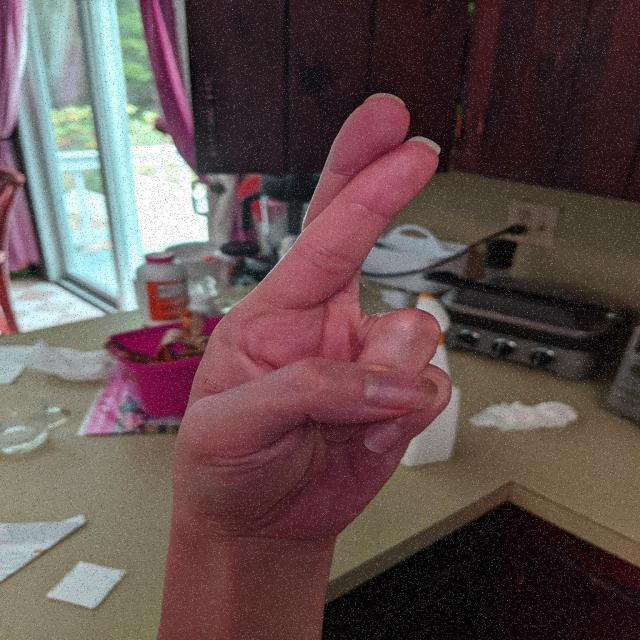R: (167, 88, 465, 556)
